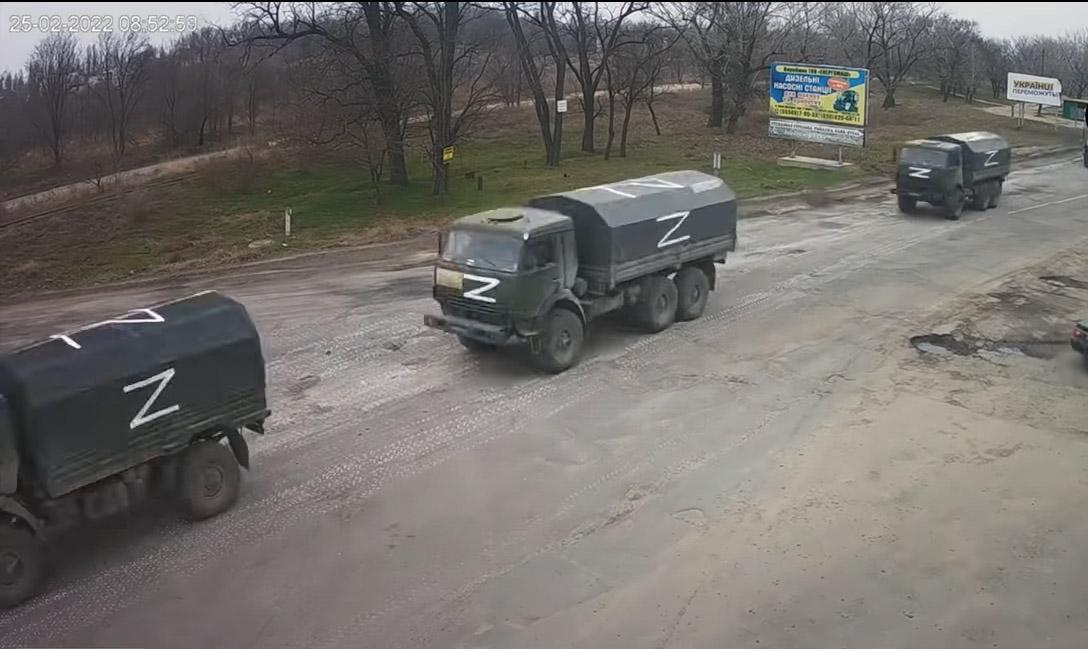truck: (5, 278, 272, 582), (431, 158, 747, 392), (884, 130, 1009, 214)
